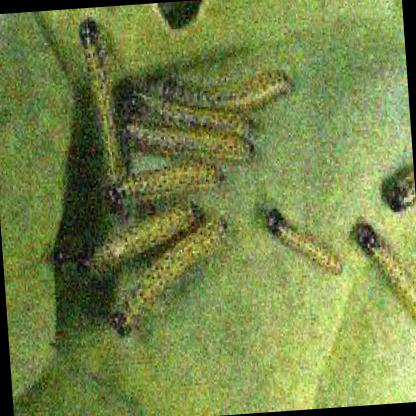pieris: (79, 18, 129, 182), (349, 221, 416, 326), (91, 207, 201, 270), (150, 74, 299, 116), (266, 205, 343, 277), (109, 159, 225, 205)
